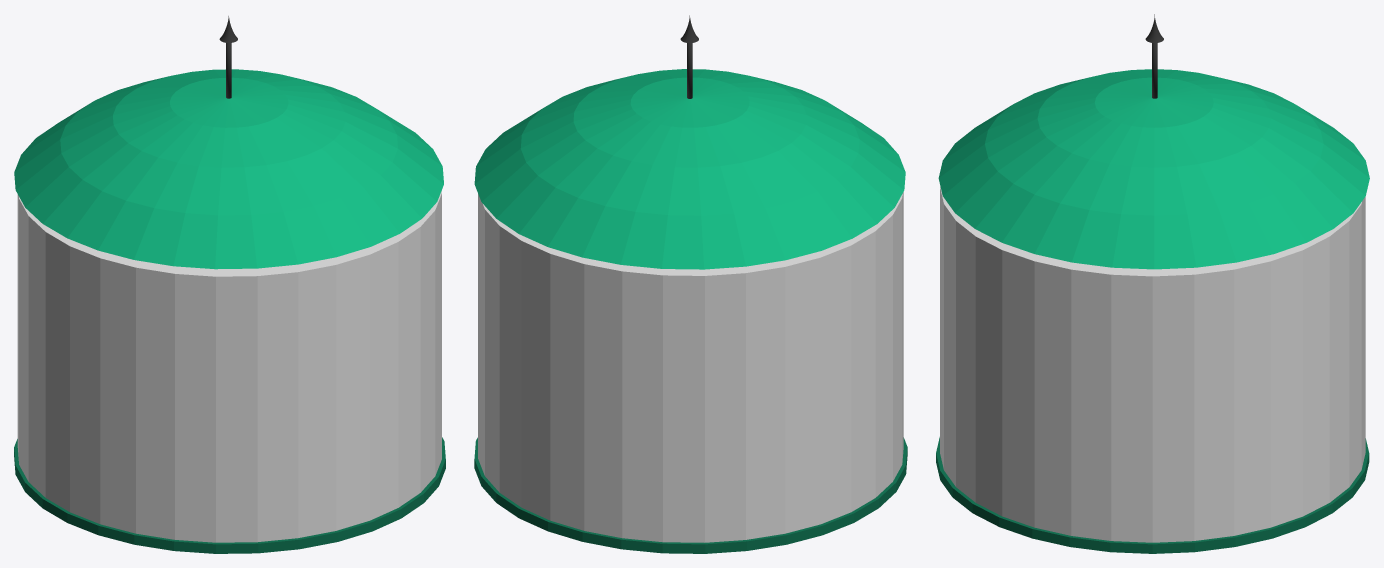
File: 11_Same area vector for same boundary.glb
3 views of the same model, side by side, from view 1: azimuth 30°, elevation 25°; view 2: azimuth 150°, elevation 25°; view 3: azimuth 270°, elevation 25° (orthographic).
Parts seen in each view (by area): view 1: Cylinder, Curved_surface, Cylinder.001, Arrow.001; view 2: Cylinder, Curved_surface, Cylinder.001, Arrow.001; view 3: Cylinder, Curved_surface, Cylinder.001, Arrow.001.
Part boxes in pixels (x1,y1,x2,y2): Cylinder: [17, 190, 441, 542]; Curved_surface: [14, 69, 443, 269]; Cylinder.001: [14, 437, 445, 553]; Arrow.001: [219, 16, 237, 98]; Cylinder: [478, 192, 903, 542]; Curved_surface: [474, 69, 905, 269]; Cylinder.001: [474, 437, 907, 553]; Arrow.001: [680, 15, 698, 98]; Cylinder: [940, 185, 1365, 542]; Curved_surface: [938, 69, 1369, 269]; Cylinder.001: [936, 437, 1369, 553]; Arrow.001: [1145, 14, 1163, 98].
Size of the model in its own units: 3.73 by 4.27 by 3.74.
